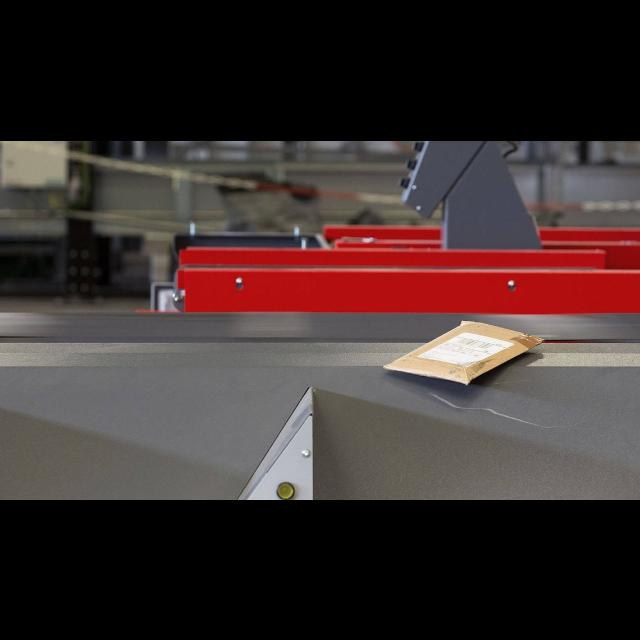mailer: (386, 319, 544, 386)
